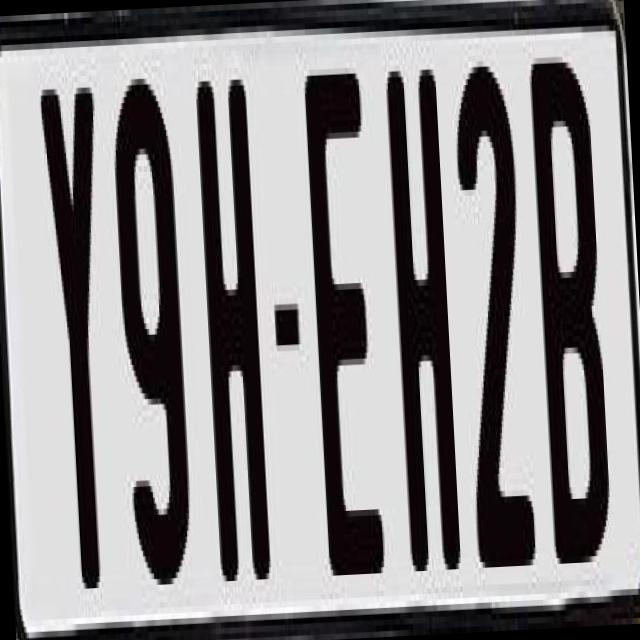2: (448, 48, 540, 557)
9: (108, 65, 199, 580)
B: (524, 56, 610, 564)
E: (300, 68, 382, 570)
H: (191, 67, 272, 599), (380, 64, 458, 572)
Y: (38, 70, 122, 590)
